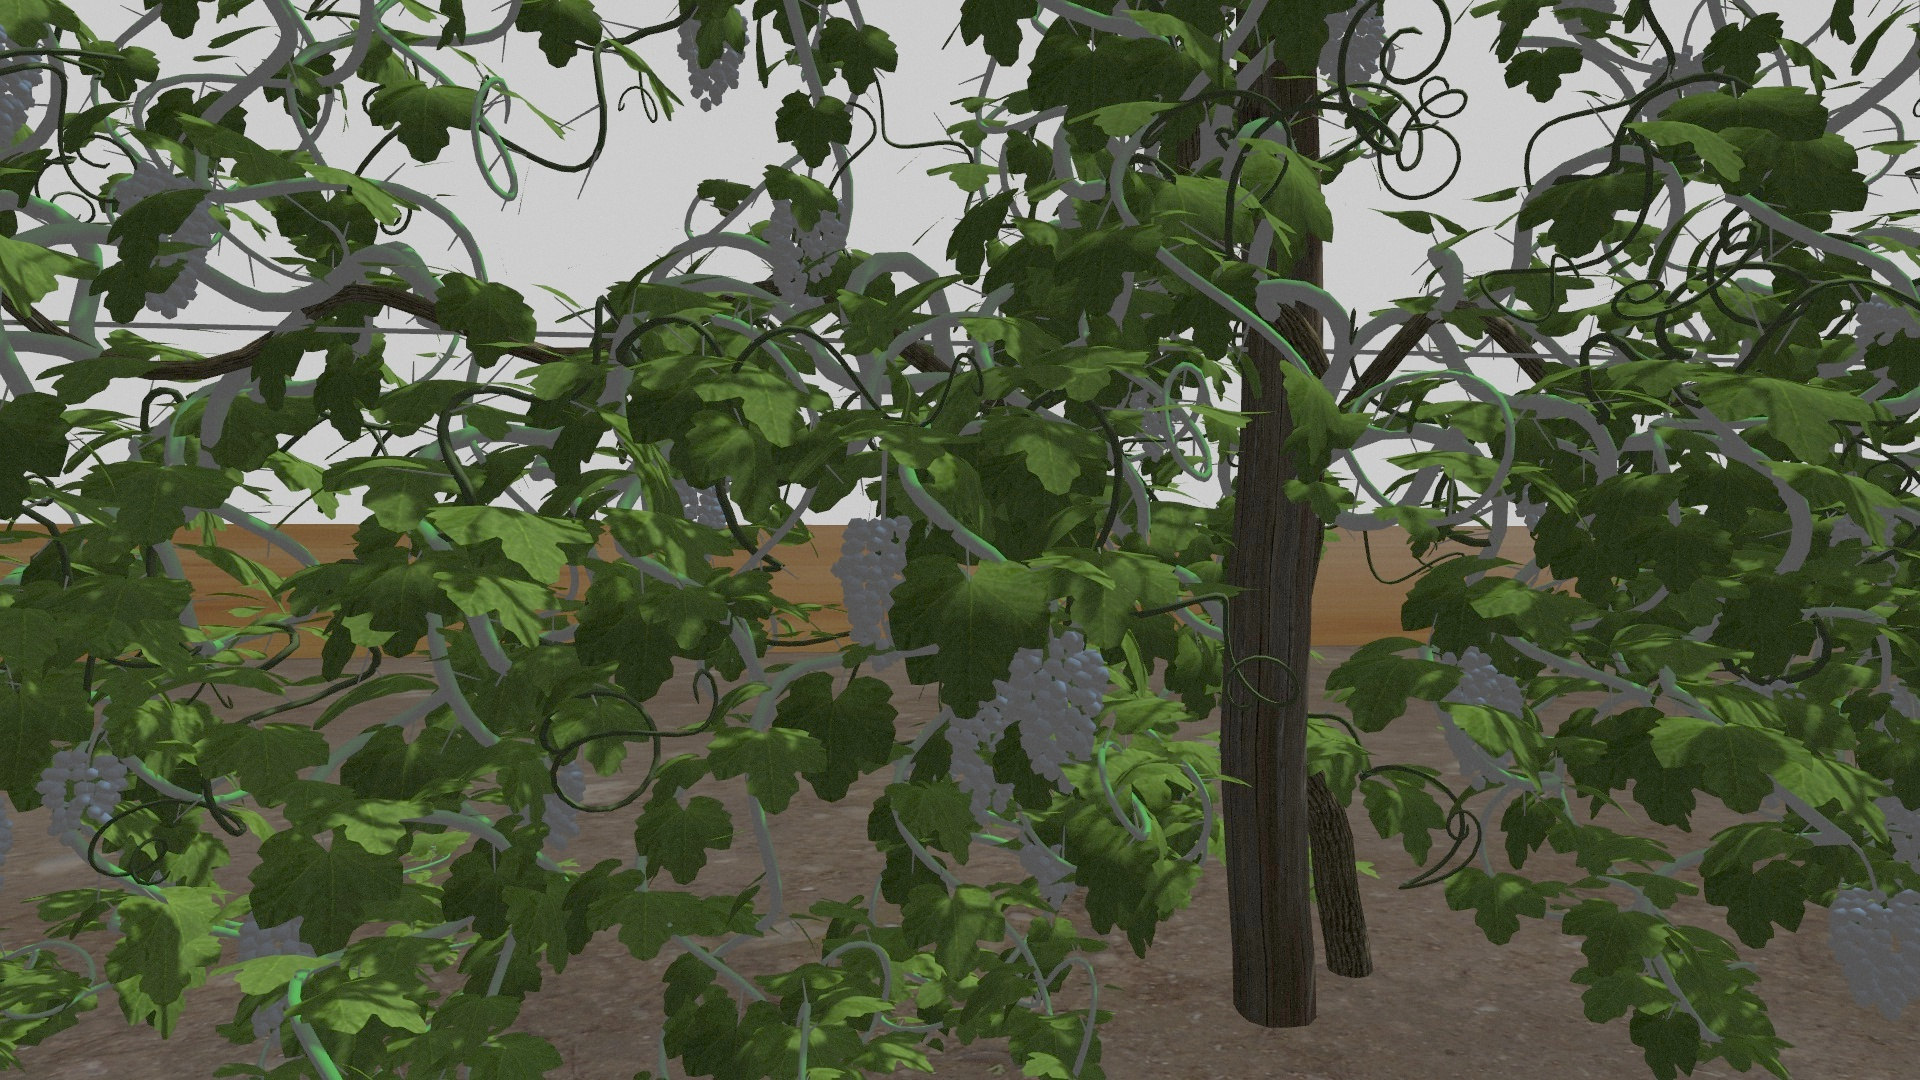grape: (1010, 629, 1112, 785), (116, 165, 214, 319), (1437, 646, 1528, 789), (828, 514, 911, 647), (945, 680, 1018, 822), (1824, 890, 1913, 1000), (761, 193, 848, 295), (40, 742, 121, 851), (671, 11, 744, 109), (1316, 9, 1389, 99)
